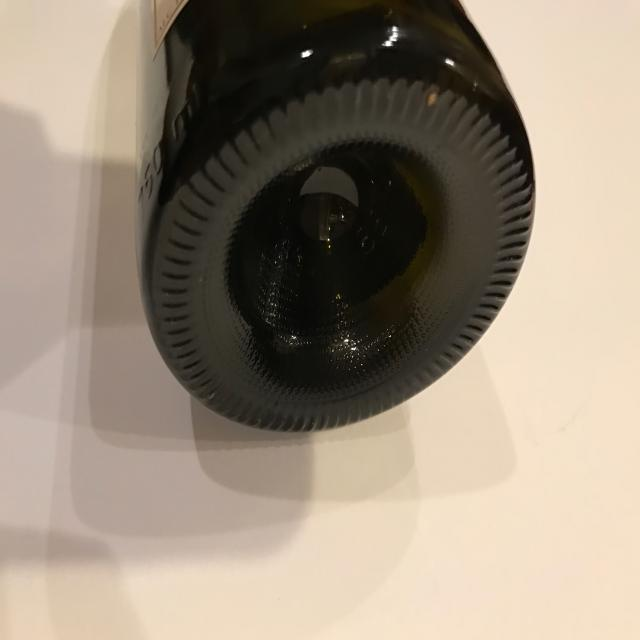glass: (131, 1, 535, 438)
